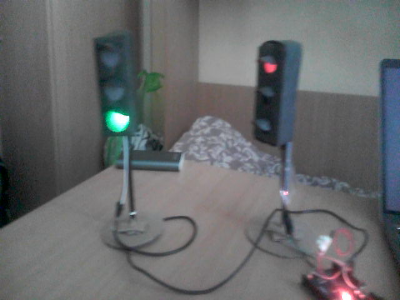trafficlight_green: (94, 36, 134, 135)
trafficlight_red: (253, 45, 288, 139)
